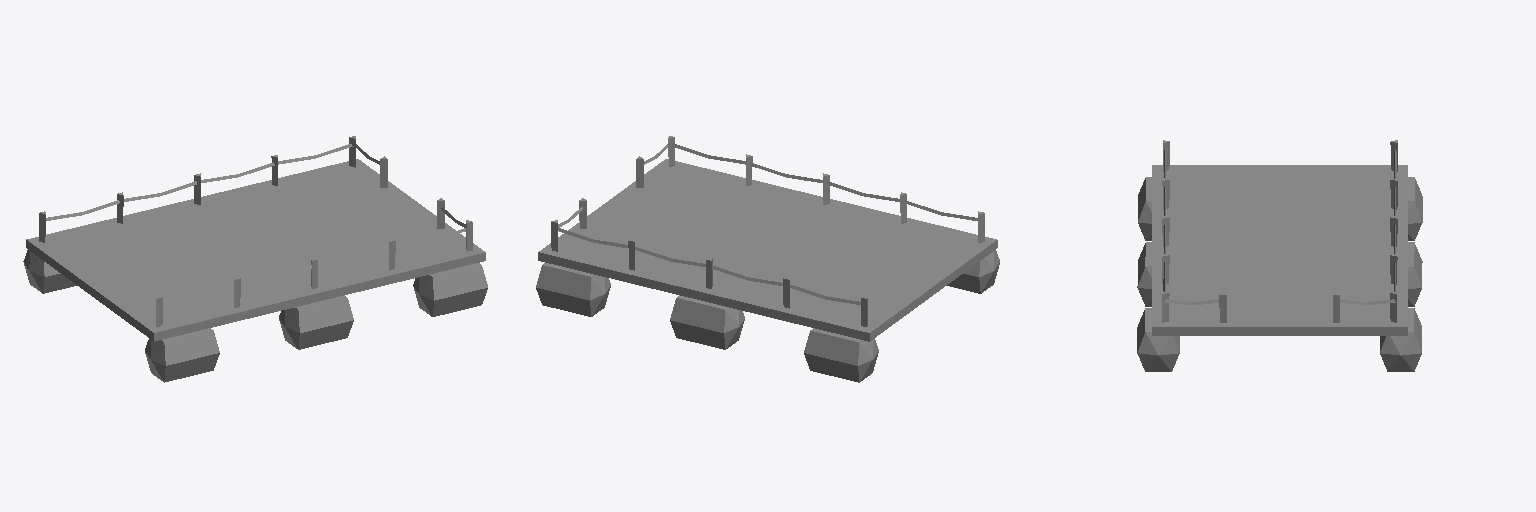
File: Raft.obj
The picture shows the model from 3 angles: view 1: azimuth 30°, elevation 25°; view 2: azimuth 150°, elevation 25°; view 3: azimuth 270°, elevation 25°; orthographic projection.
Size of the model in its own units: 167 by 37.32 by 124.